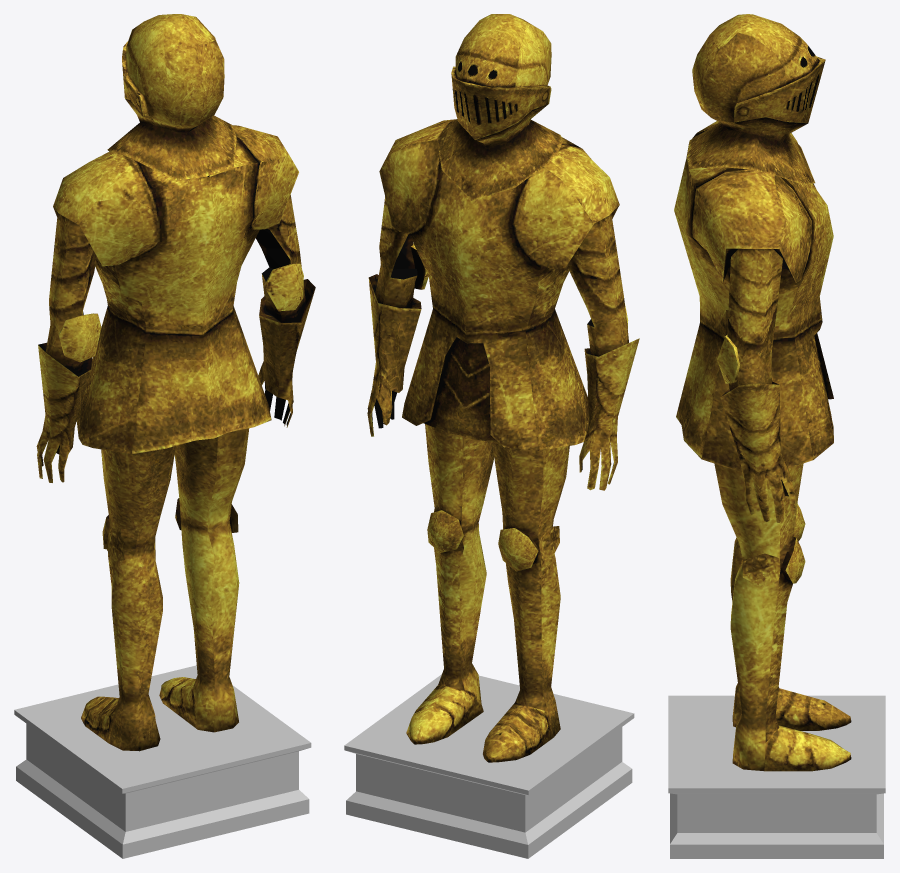
File: armour_gold_nopodium.dae
The picture shows the model from 3 angles, left to right: view 1: azimuth 30°, elevation 25°; view 2: azimuth 150°, elevation 25°; view 3: azimuth 270°, elevation 25°; orthographic projection. The views are drawn at different scales.
Parts seen in each view (by area): view 1: breastplate, podium, Box02, right_boot, head, right_glove; view 2: breastplate, podium, Box02, head, right_boot, right_glove; view 3: breastplate, podium, right_boot, head, right_glove, Box02.
Part boxes in pixels (x1,y1,x2,y2): breastplate: (53,125,298,454); podium: (14,665,311,858); Box02: (36,212,175,751); right_boot: (159,428,249,732); head: (107,14,236,180); right_glove: (256,195,315,427); breastplate: (379,119,619,450); podium: (344,674,634,858); Box02: (483,214,639,762); head: (437,14,563,200); right_boot: (406,424,494,744); right_glove: (367,196,428,436); breastplate: (674,121,833,472); podium: (668,695,885,858); right_boot: (714,463,851,771); head: (687,14,825,183); right_glove: (717,248,795,523); Box02: (730,504,851,730).
Size of the model in its own units: 0.9166 by 0.6365 by 2.57.
